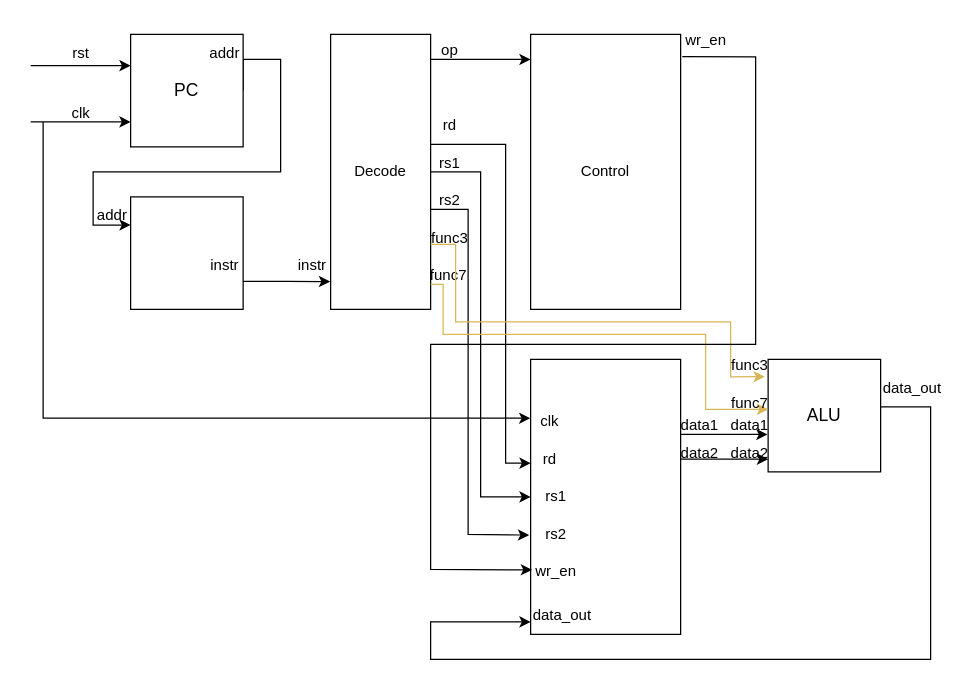
Image size: 978x691. Some labels were removed from this diagram. Here are the shapes that lost their labels. From the top down, the box of each, then its label:
(129, 196, 243, 309): Instr_mem
(529, 358, 681, 634): Rigister
